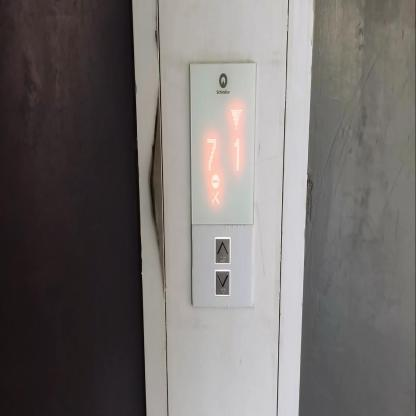down: (214, 267, 232, 297)
led: (188, 58, 257, 227)
up: (213, 234, 232, 266)
